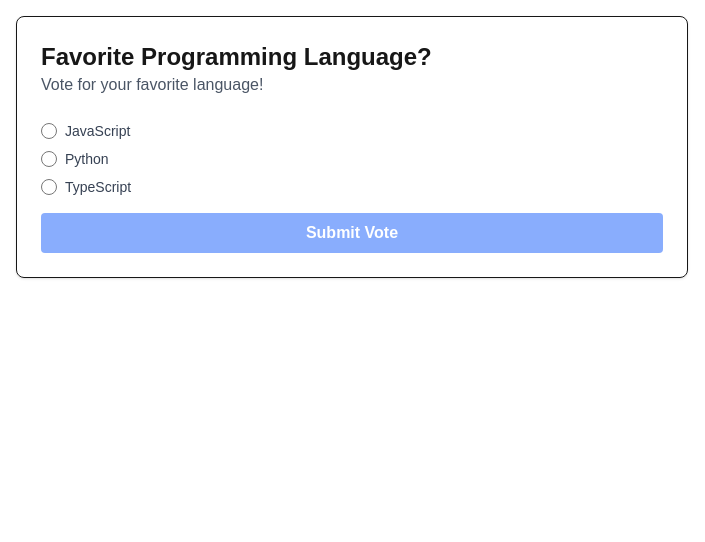
Scenario: Poll Voting Integration › displays poll details and allows voting
This screenshot has width=705, height=542.
Expected: the heading "Favorite Programming Language?" is shown, [41, 41, 432, 73]
Expected: the text "Vote for your favorite language!" is shown, [41, 76, 263, 93]
# Select an option to vote for
What coordinates should you click on to do the following:
click the radio button labelled "JavaScript"
I would click on:
 (49, 131)
Its box is [41, 123, 57, 139].
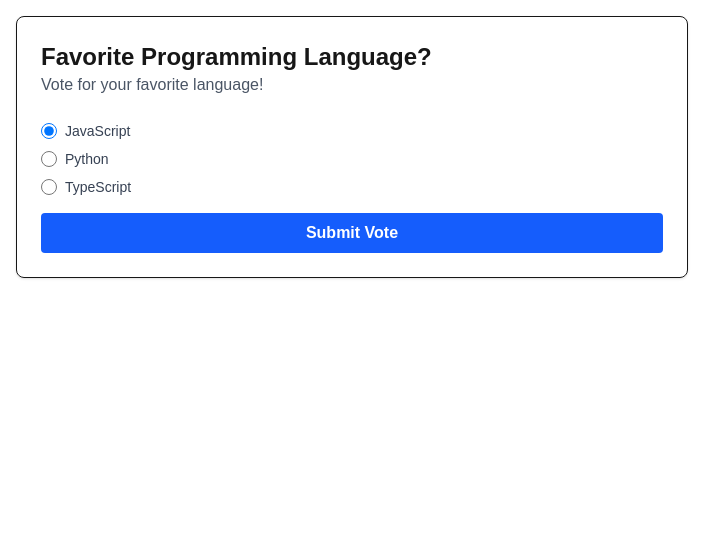
# Click the submit button
What coordinates should you click on to do the following:
click the button "Submit Vote"
I would click on:
 (352, 233)
Its box is [41, 213, 663, 253].
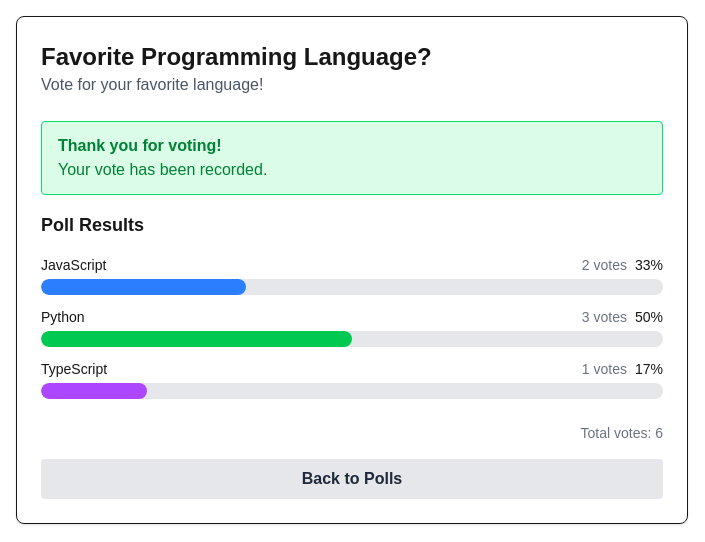
Expected: the text "Thank you for voting!" is shown, [58, 137, 222, 154]
